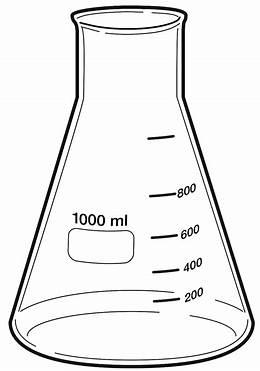Titrarion: (12, 15, 256, 366)
